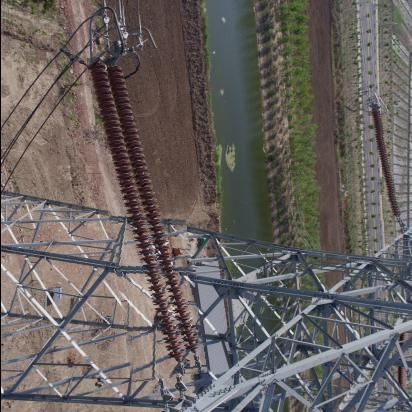insulator: (98, 52, 196, 383), (370, 106, 405, 221)
